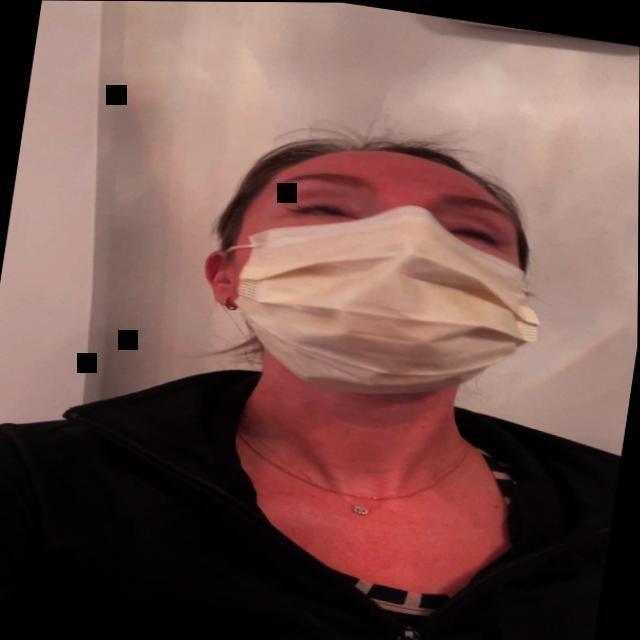Mask: (178, 106, 575, 446)
